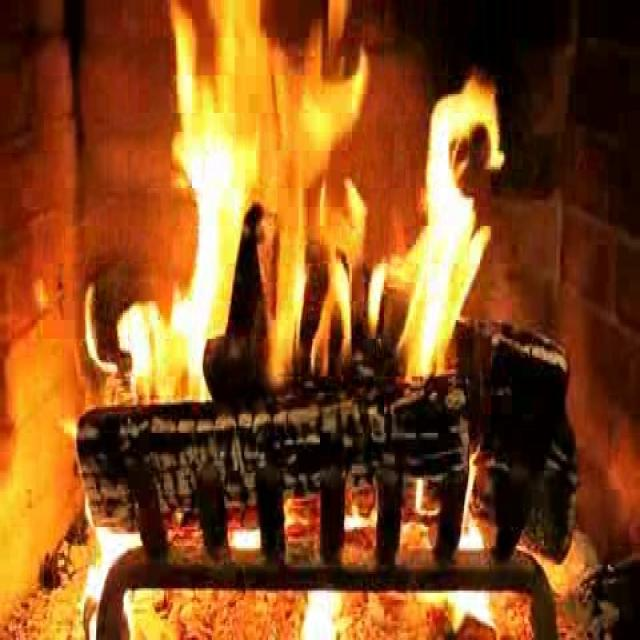fire: (150, 7, 480, 394)
